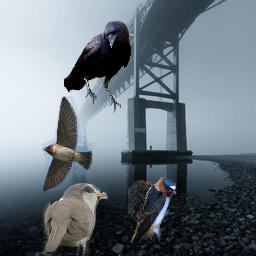Crow: (64, 21, 131, 113)
Cuckoo: (41, 183, 108, 256)
Swallow: (42, 96, 93, 192), (128, 177, 176, 243)
